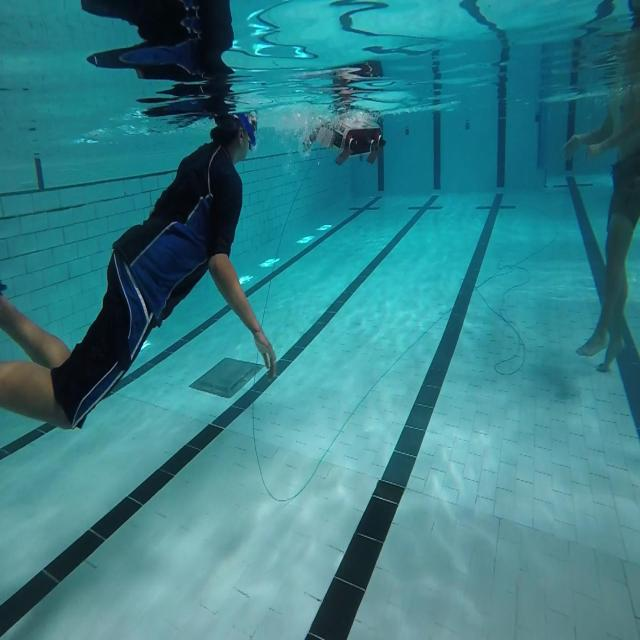human: (0, 108, 277, 432), (561, 0, 639, 372)
